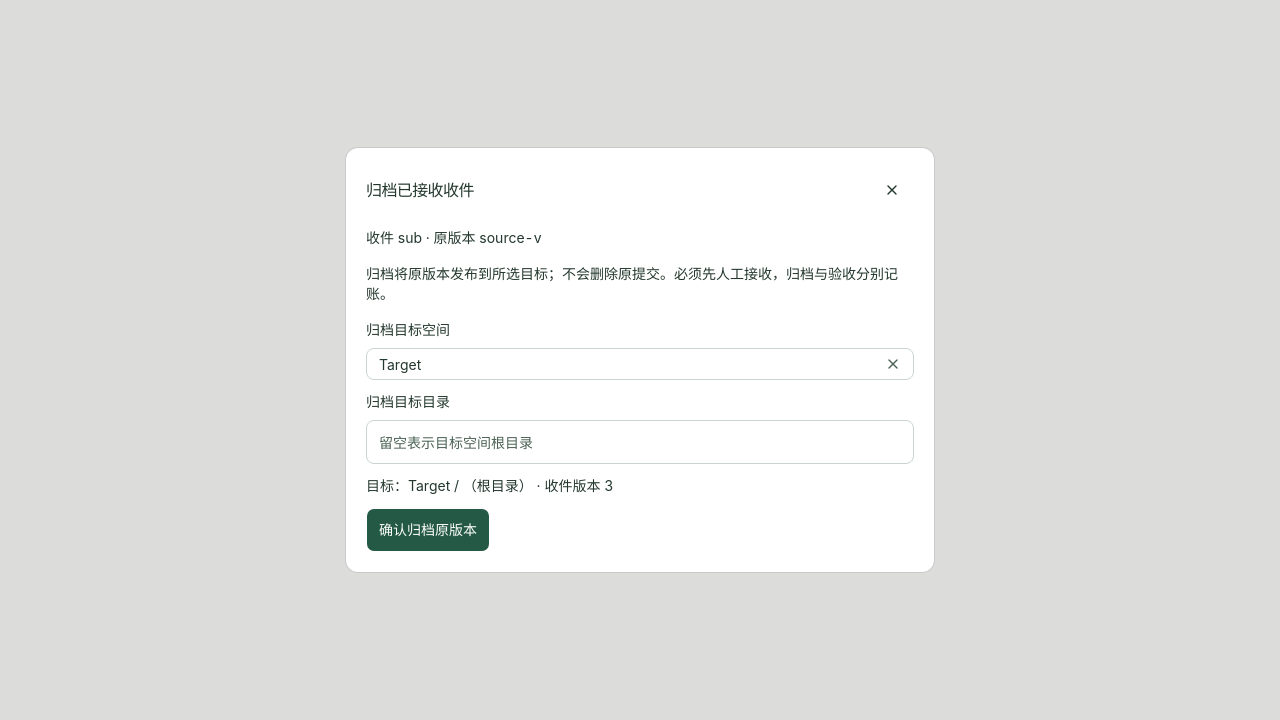
Test case: clears data on scope loss and ignores a late archive response
Click the button "确认归档原版本".
click(428, 530)  # box [366,508,490,552]
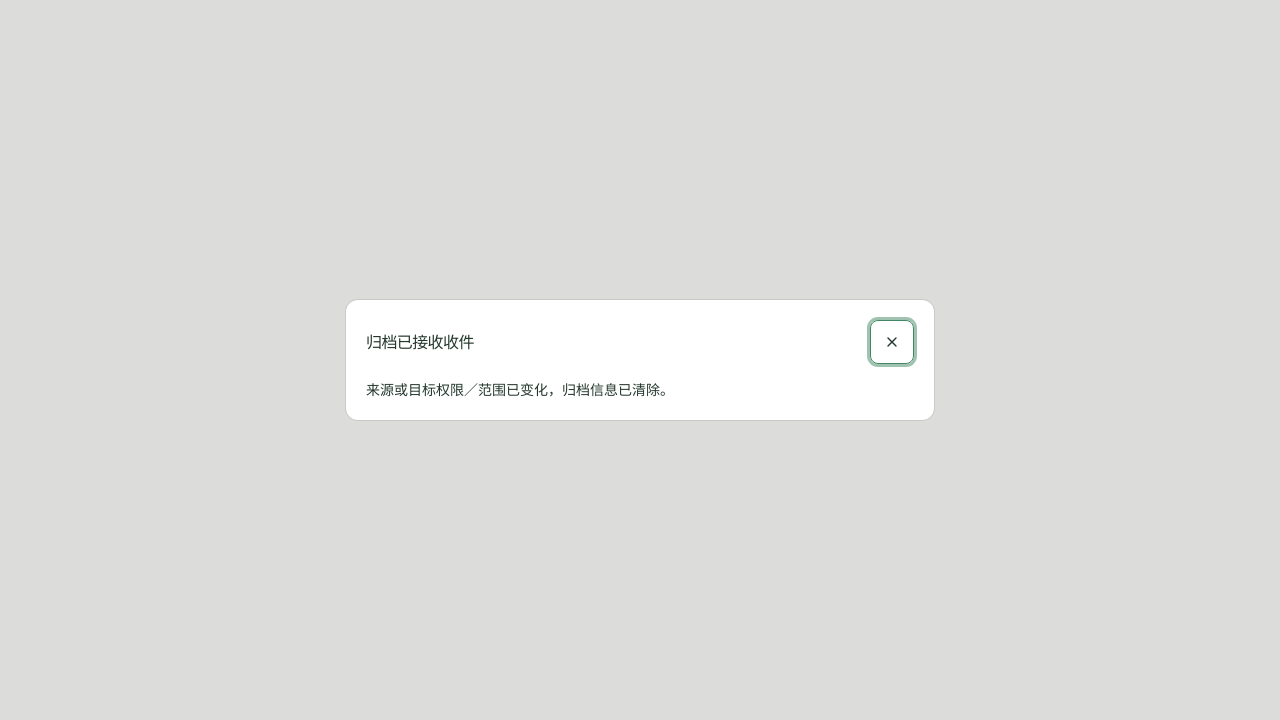
Now the text "来源或目标权限／范围已变化，归档信息已清除。" is shown, box [366,381,674,398]
